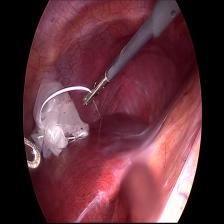Grasper: (83, 76, 108, 107), (23, 137, 42, 176)
Specimen Bag: (33, 78, 90, 158)
